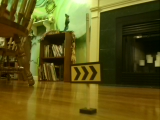right: (70, 63, 102, 82)
